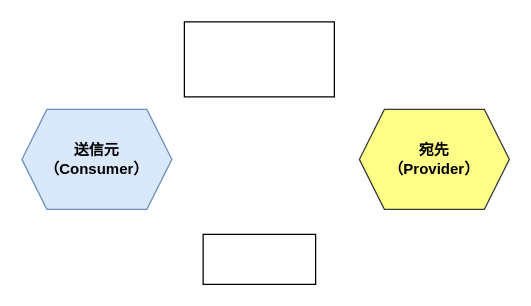
Image size: 531x306. Some labels were removed from this diagram. Each missing label, with the centre of its shape:
Load Balancer: pixel 259 258
Service Registry: pixel 258 59
